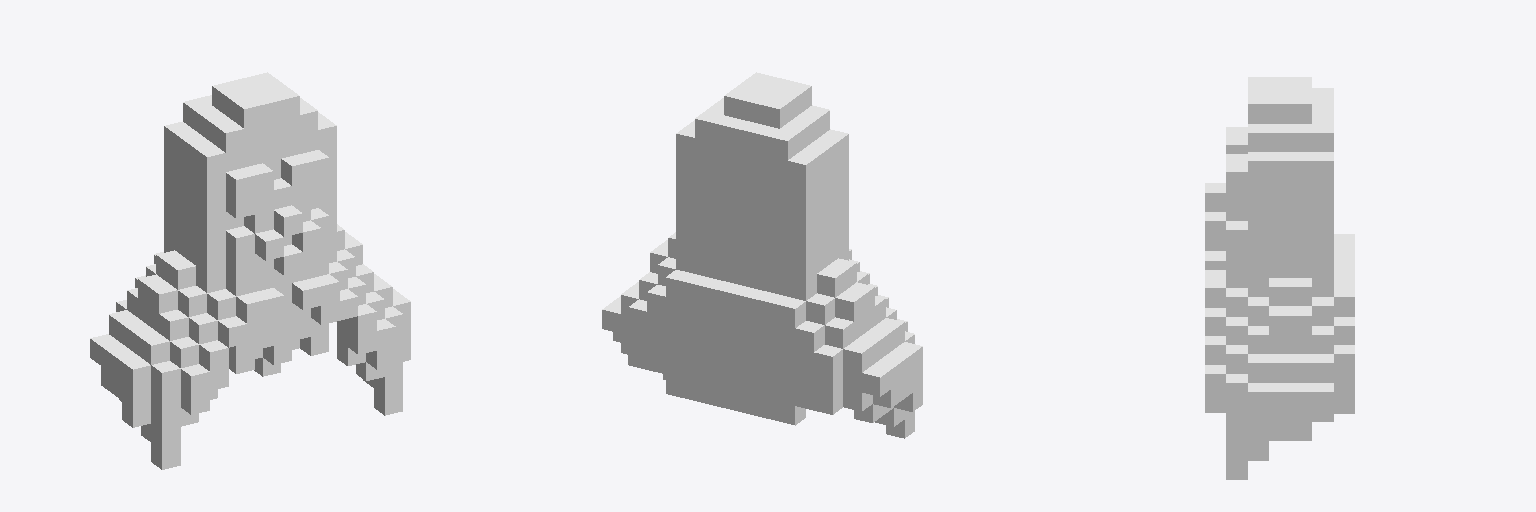
The model's file is ririfa-3.obj.
3 renders of one model, left to right at view 1: azimuth 30°, elevation 25°; view 2: azimuth 150°, elevation 25°; view 3: azimuth 270°, elevation 25°, orthographic.
Visible parts, largest first — view 1: ririfa-3; view 2: ririfa-3; view 3: ririfa-3.
Boxes of the visible parts, <box> form: ririfa-3: <box>90,72,410,469</box>; ririfa-3: <box>602,72,922,438</box>; ririfa-3: <box>1205,77,1354,479</box>.
Size of the model in its own units: 15 by 17 by 7.